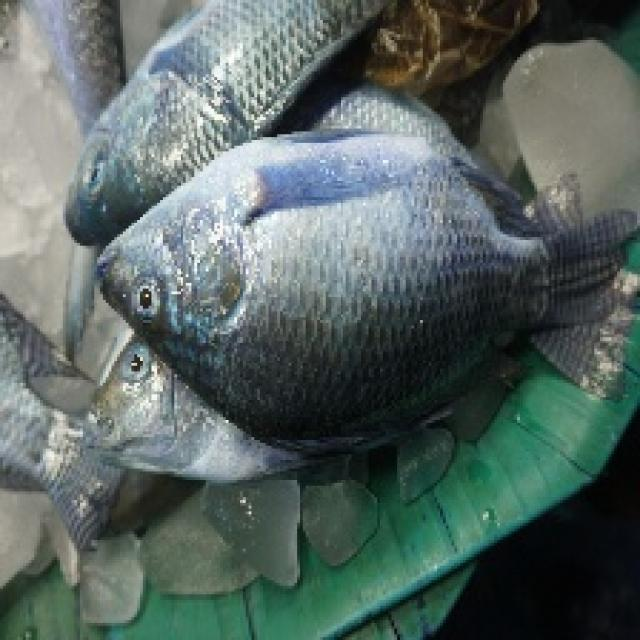Fresh: (82, 121, 474, 448)
